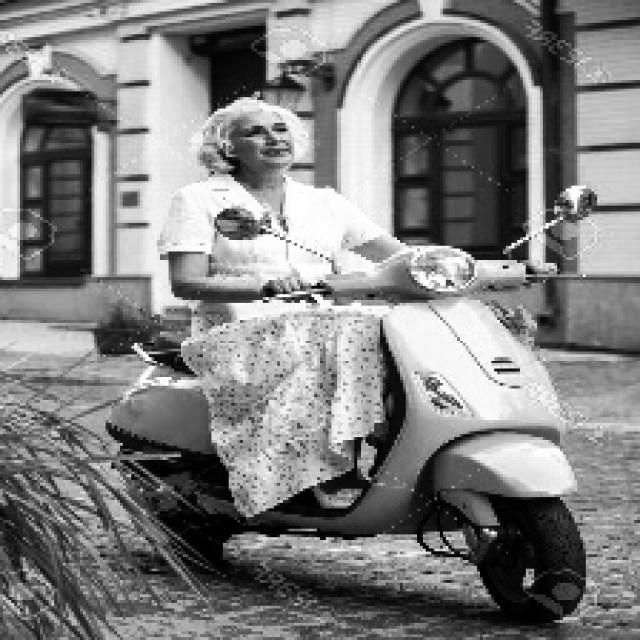Bike: (139, 252, 605, 610)
